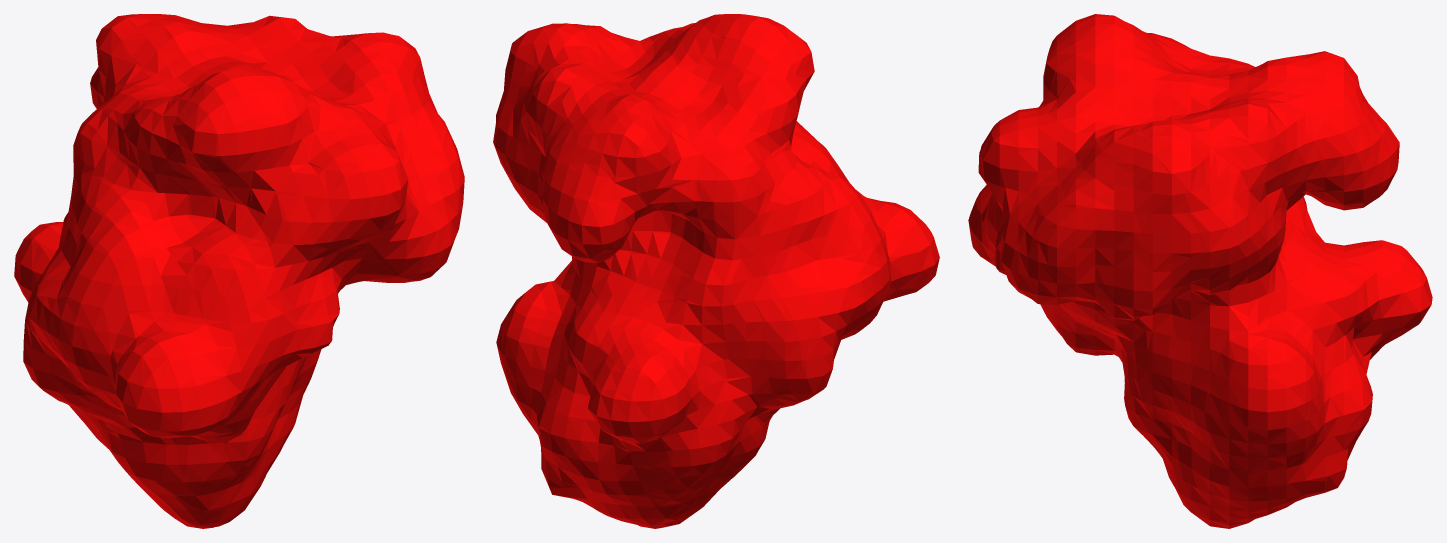
File: paaE_coarse.dae
3 views of the same model, side by side, from view 1: azimuth 30°, elevation 25°; view 2: azimuth 150°, elevation 25°; view 3: azimuth 270°, elevation 25° (orthographic). The views are drawn at different scales.
Visible parts, largest first — view 1: paaE; view 2: paaE; view 3: paaE.
Boxes of the visible parts, <box> form: paaE: <box>14,14,464,528</box>; paaE: <box>493,14,939,528</box>; paaE: <box>968,14,1432,528</box>.
Size of the model in its own units: 54.79 by 69.37 by 59.87.
